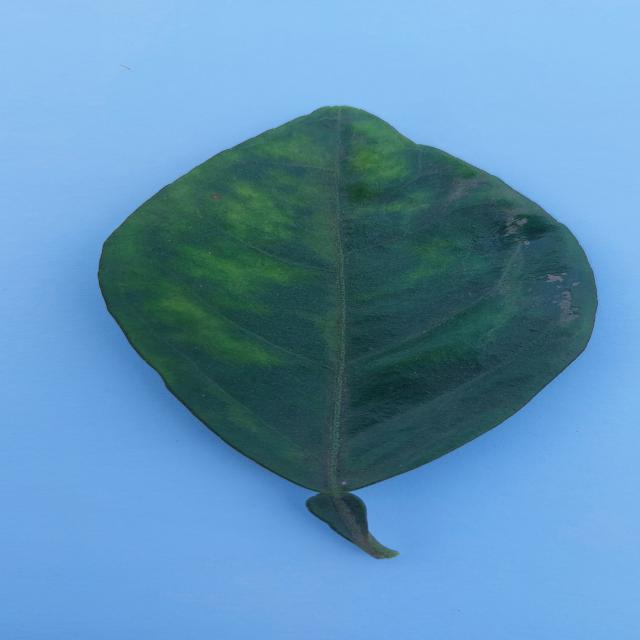greening: (100, 106, 595, 558)
